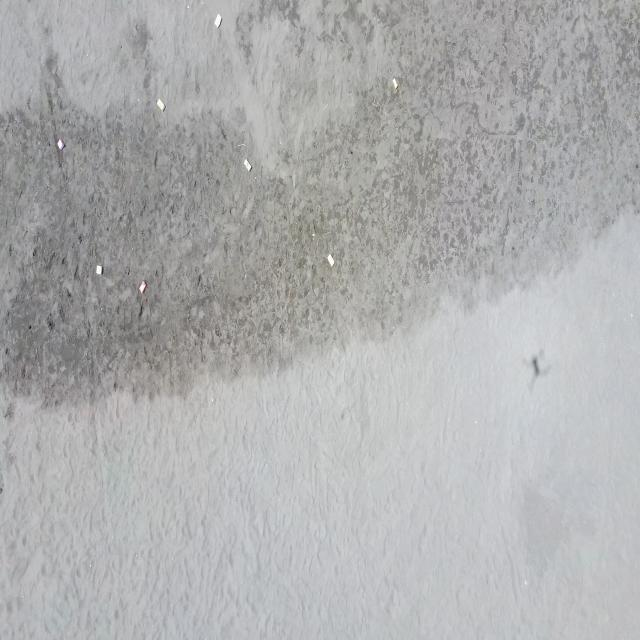Garbage: (156, 98, 164, 111), (213, 13, 220, 27), (243, 159, 251, 171), (327, 253, 333, 266), (138, 281, 145, 292), (392, 76, 397, 91), (56, 140, 63, 149), (96, 264, 101, 275)
